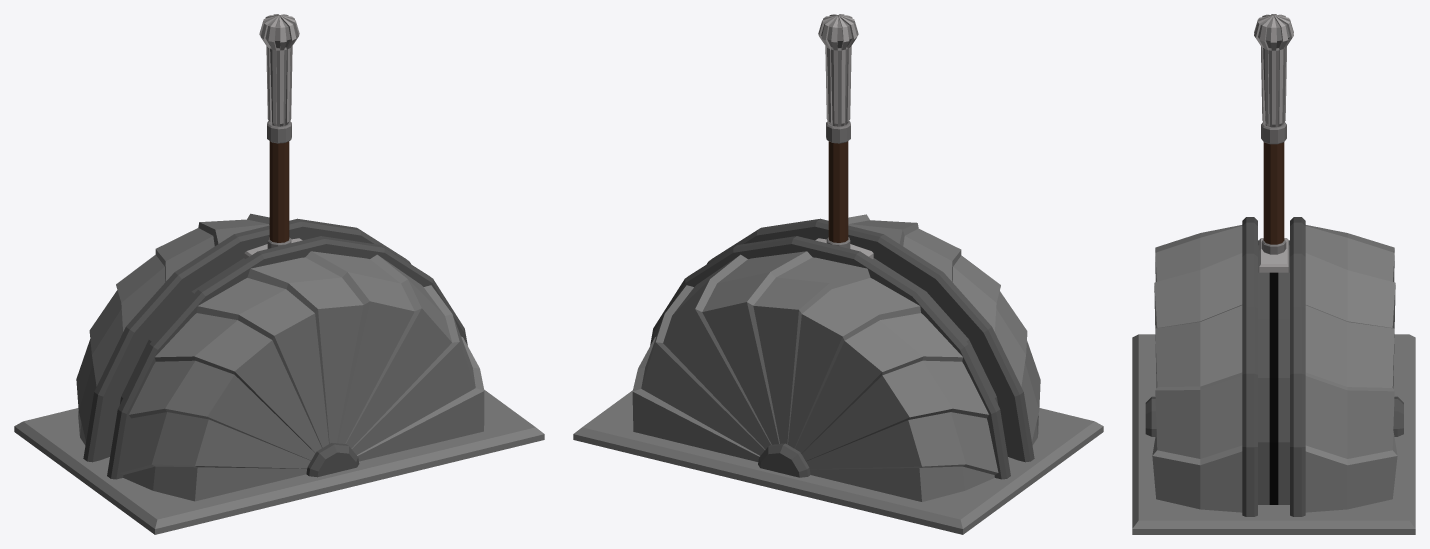
File: StoneFloorLever_6.fbx
3 views of the same model, side by side, from view 1: azimuth 30°, elevation 25°; view 2: azimuth 150°, elevation 25°; view 3: azimuth 270°, elevation 25° (orthographic).
Parts seen in each view (by area): view 1: StoneFloorLever_6_Casing, StoneFloorLever_6_Handle; view 2: StoneFloorLever_6_Casing, StoneFloorLever_6_Handle; view 3: StoneFloorLever_6_Casing, StoneFloorLever_6_Handle.
Part boxes in pixels (x1,y1,x2,y2): StoneFloorLever_6_Casing: (14, 213, 544, 534); StoneFloorLever_6_Handle: (244, 14, 302, 258); StoneFloorLever_6_Casing: (573, 214, 1103, 534); StoneFloorLever_6_Handle: (815, 14, 873, 258); StoneFloorLever_6_Casing: (1132, 217, 1415, 534); StoneFloorLever_6_Handle: (1254, 14, 1293, 272).
Size of the model in its own units: 160 by 165 by 99.98.
